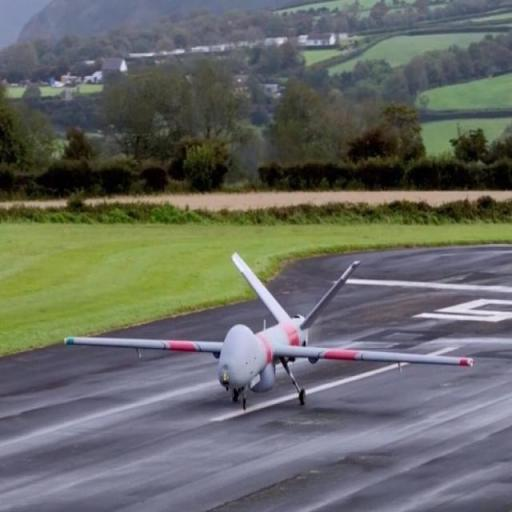uav: (63, 250, 475, 414)
